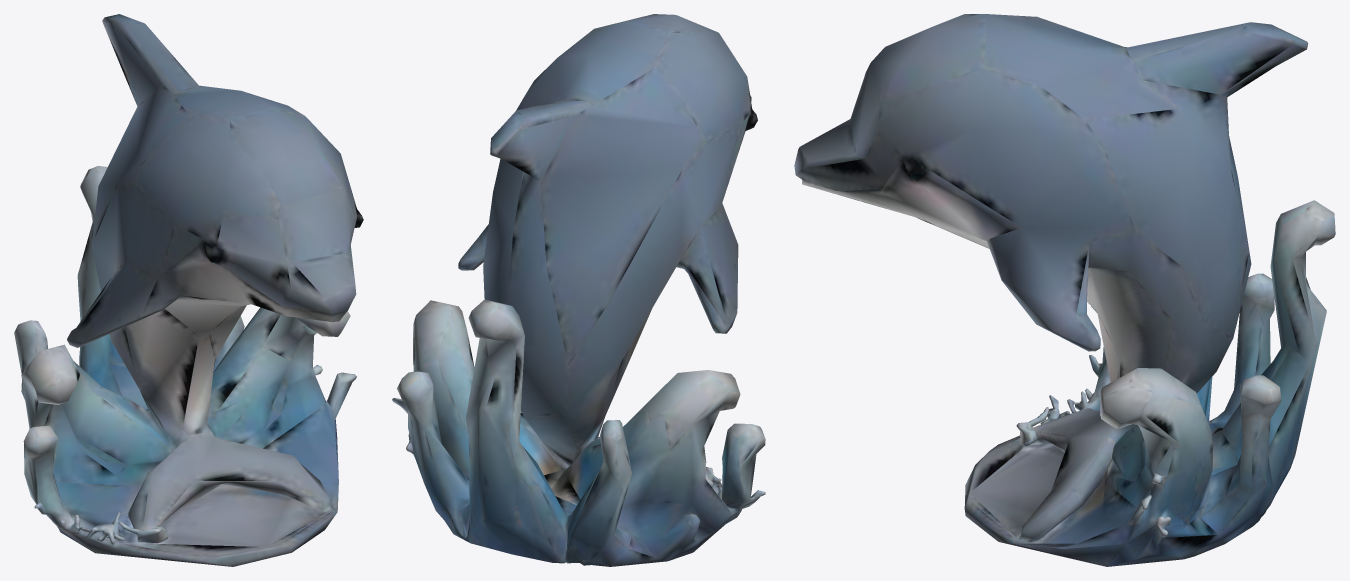
File: Dolphin.glb
The picture shows the model from 3 angles, left to right: view 1: azimuth 30°, elevation 25°; view 2: azimuth 150°, elevation 25°; view 3: azimuth 270°, elevation 25°; orthographic projection. The views are drawn at different scales.
Visible parts, largest first — view 1: 3d66-Editable_Poly-23415958-001; view 2: 3d66-Editable_Poly-23415958-001; view 3: 3d66-Editable_Poly-23415958-001.
Boxes of the visible parts, box(x1,y1,x2,y2) form: 3d66-Editable_Poly-23415958-001: box(14, 14, 363, 566); 3d66-Editable_Poly-23415958-001: box(392, 14, 765, 566); 3d66-Editable_Poly-23415958-001: box(794, 14, 1335, 566).
Bounding box in the file's own units: 0.8017 × 0.9672 × 0.9921.
Materials: 1 (1 with a texture image).
